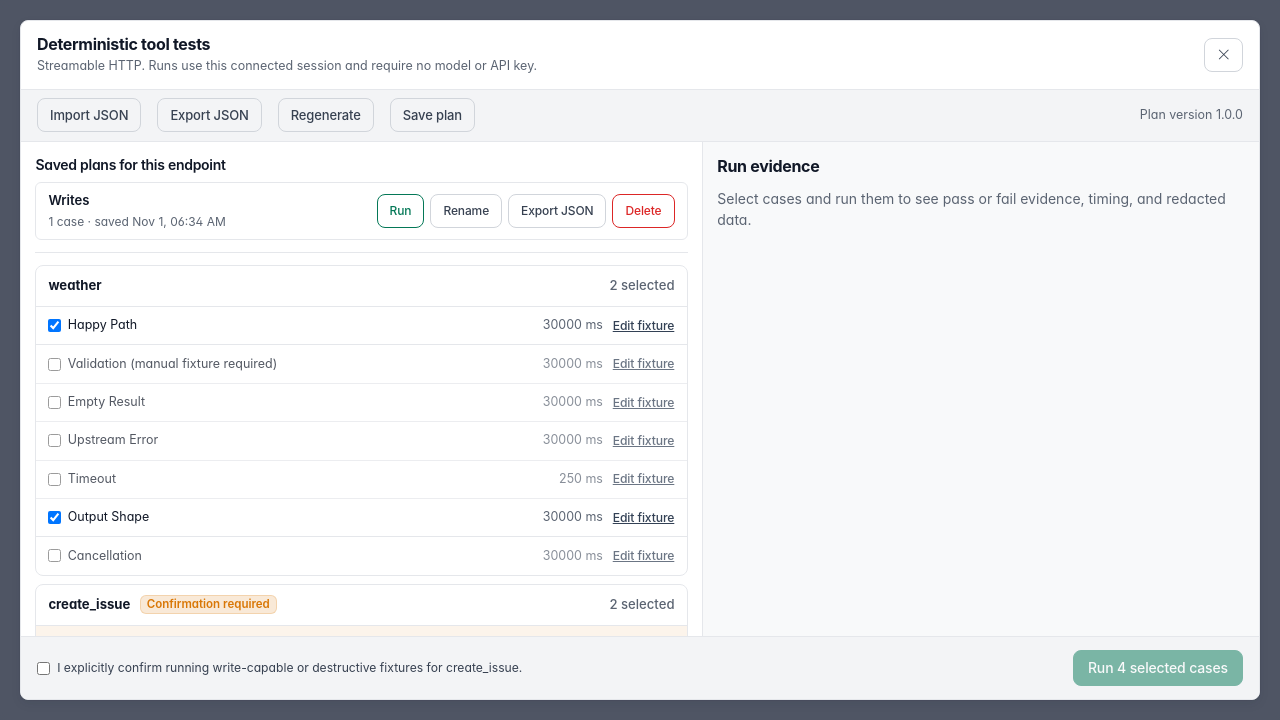
it: DeterministicTestPanel saved plans › loads a plan with write-capable tools without running it
Click the button "Run": point(400, 211) top-left (376, 194), bottom-right (424, 228)
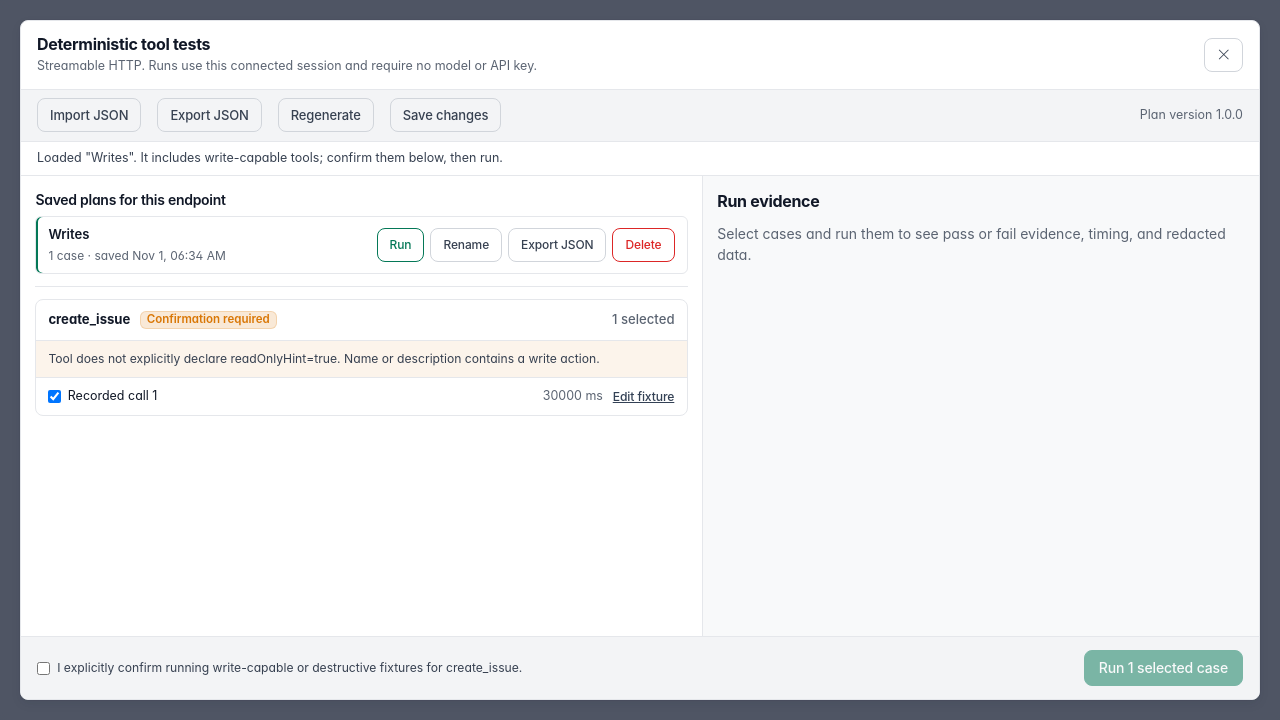
Expected: the text "confirm them below, then run" is shown, top-left (37, 150), bottom-right (503, 165)
